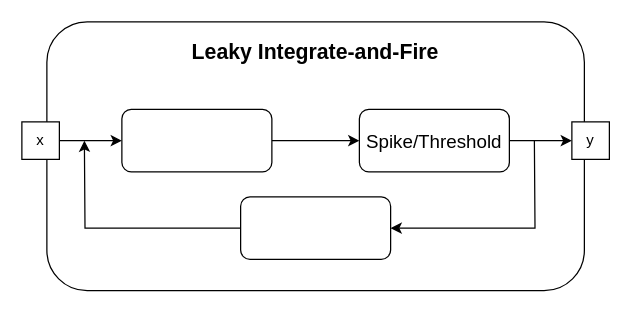
This 631x313 diagram has some shape labels left out. Each missing label, with the centre of its shape:
"Leaky Integrator" belongs at point 196,140.
"Linear" belongs at point 315,227.
